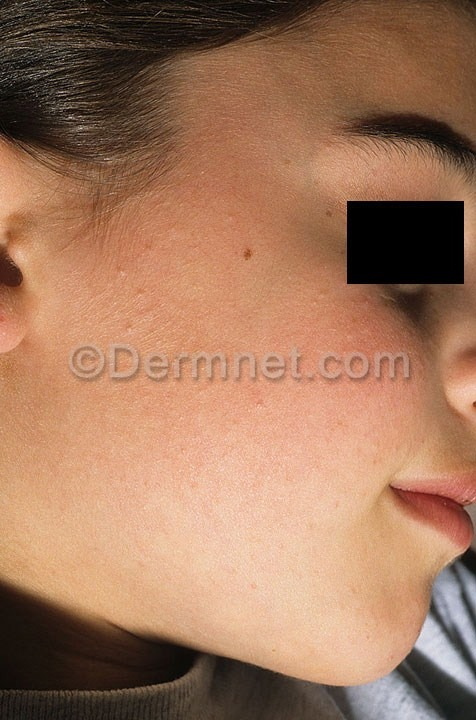Eczema: (100, 297, 408, 514), (131, 194, 226, 295)
